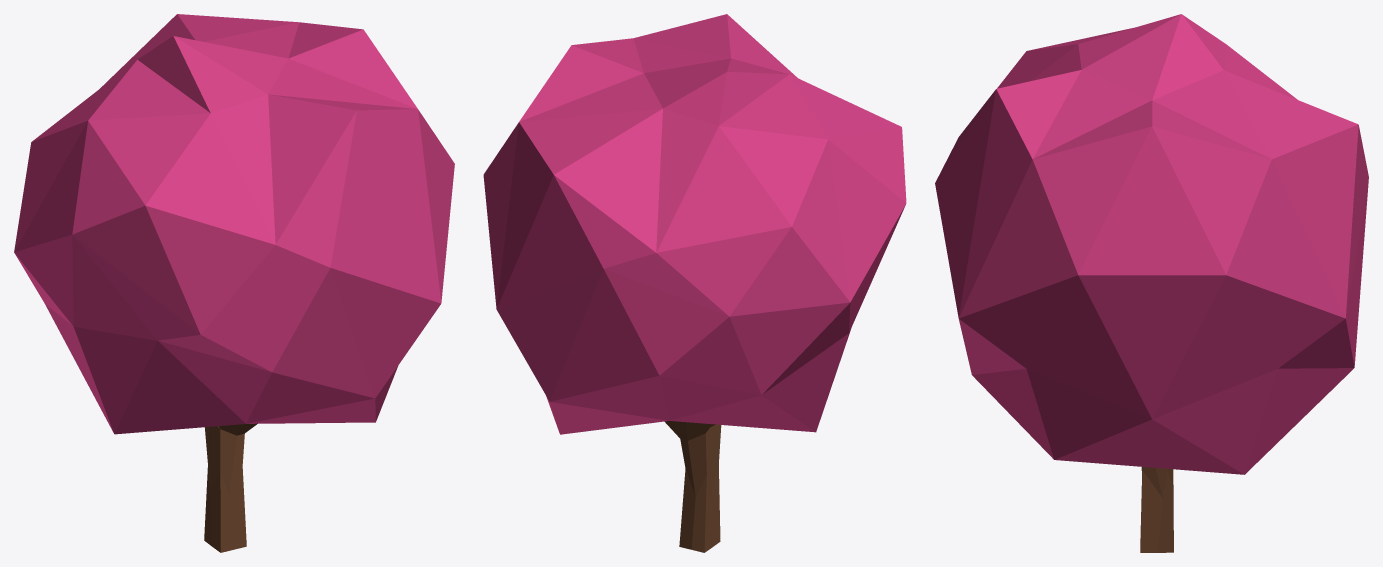
File: Tree_12_Pink.fbx
3 views of the same model, side by side, from view 1: azimuth 30°, elevation 25°; view 2: azimuth 150°, elevation 25°; view 3: azimuth 270°, elevation 25° (orthographic). The views are drawn at different scales.
Parts seen in each view (by area): view 1: Tree_12_Pink_Part_1, Tree_12_Pink_Part_2; view 2: Tree_12_Pink_Part_1, Tree_12_Pink_Part_2; view 3: Tree_12_Pink_Part_1, Tree_12_Pink_Part_2.
Boxes of the visible parts, x1,y1,x2,y2 form: Tree_12_Pink_Part_1: [14, 14, 454, 434]; Tree_12_Pink_Part_2: [204, 423, 257, 552]; Tree_12_Pink_Part_1: [483, 14, 906, 434]; Tree_12_Pink_Part_2: [664, 421, 721, 552]; Tree_12_Pink_Part_1: [935, 14, 1368, 474]; Tree_12_Pink_Part_2: [1140, 467, 1173, 552].
Bounding box in the file's own units: 583 × 758 × 582.
